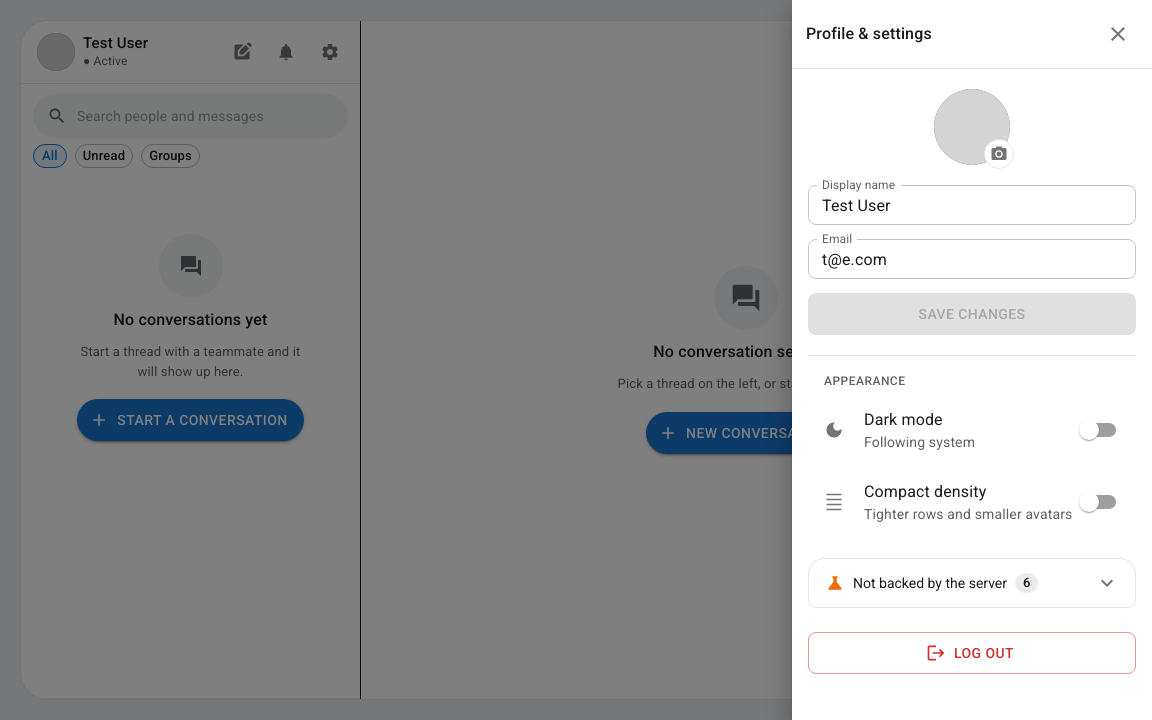
Test: removing a profile photo › reports a failure instead of pretending, and offers no Undo
Expected: the text "Test User" is shown, [83,34,148,52]
Click the button named "profile photo options" at (999,154), box [984,139,1014,169]
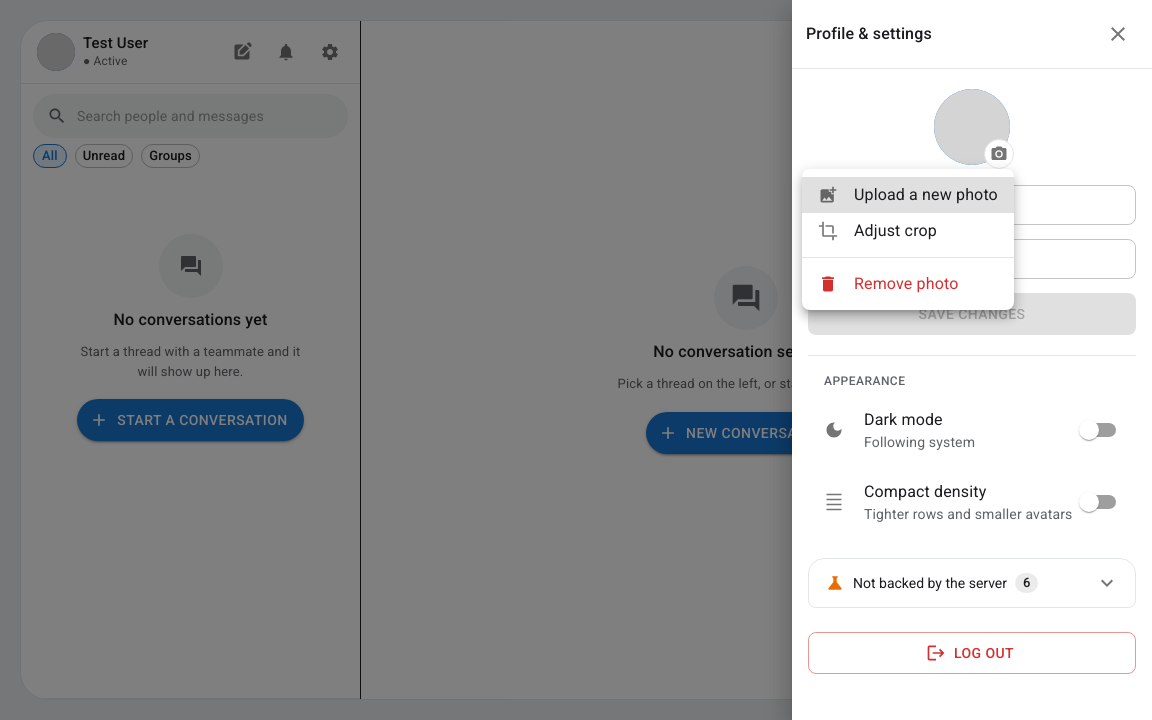
Click the menu item "Remove photo" at (888,284), box [818,274,958,294]
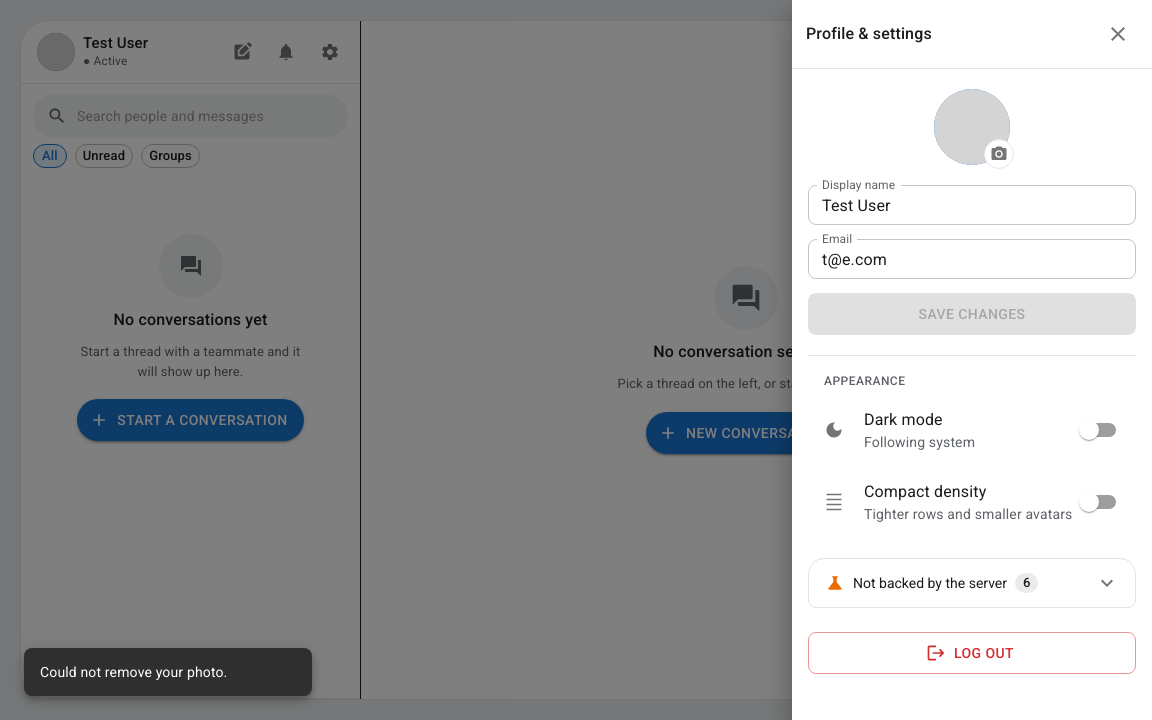
Result: the text "Could not remove your photo." is shown at [40,664,228,680]
